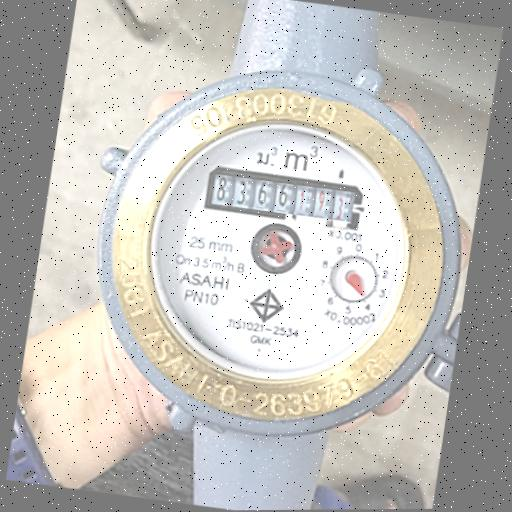1: (293, 186, 312, 216)
3: (231, 178, 251, 208), (331, 191, 351, 221)
6: (252, 179, 272, 210), (273, 181, 292, 213)
8: (211, 174, 231, 206)
9: (312, 188, 330, 220)
border_water_meter_number: (202, 162, 365, 232)
